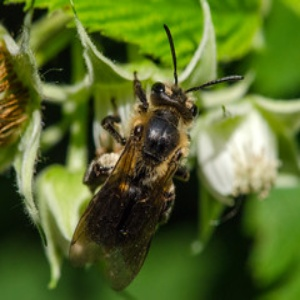bee: (72, 66, 208, 290)
